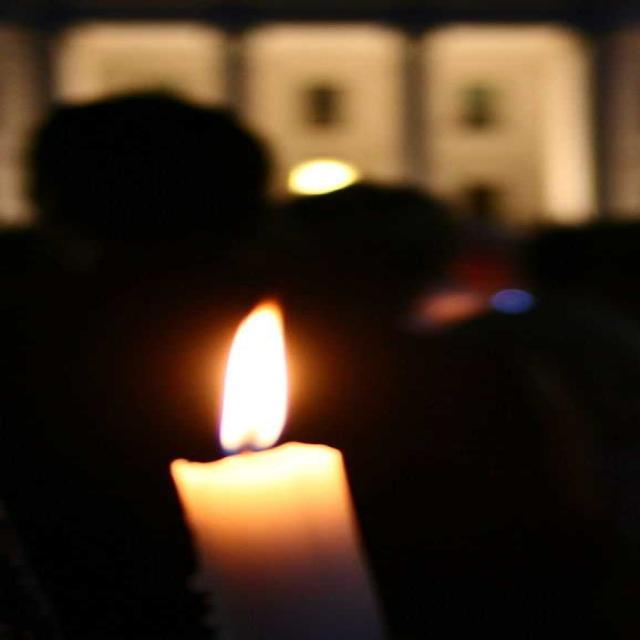Fire: (211, 296, 337, 445)
